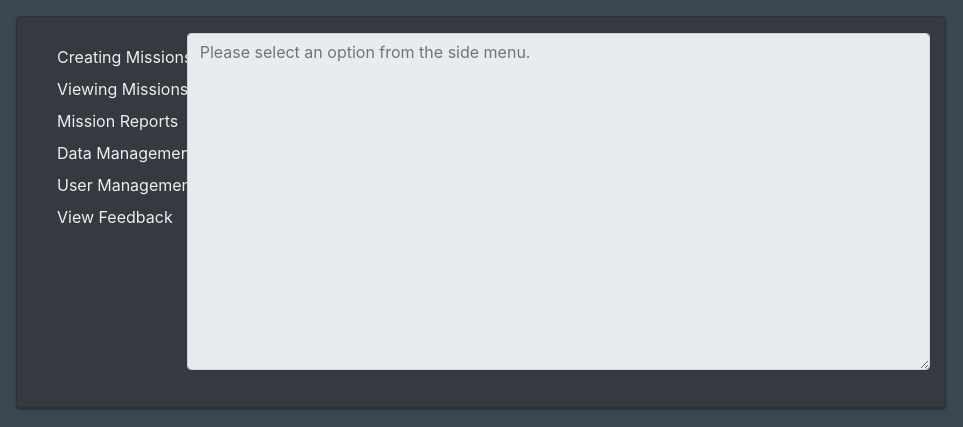
Scenario: About › About
The image size is (963, 427).
Click the button "Creating Missions": (127,57) [33,41,220,73]
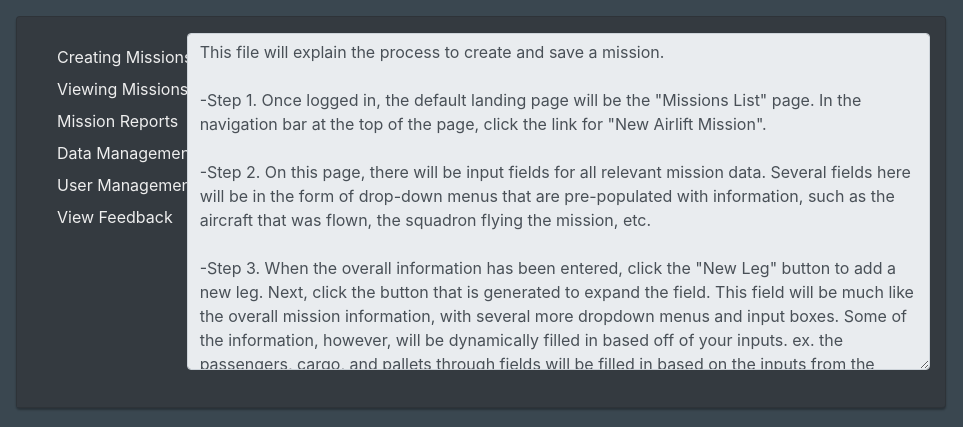
Expected: the text box "This file will explain the process to create and save a mission" is shown
Click the button "Viewing Missions": (127,89) [33,73,220,105]
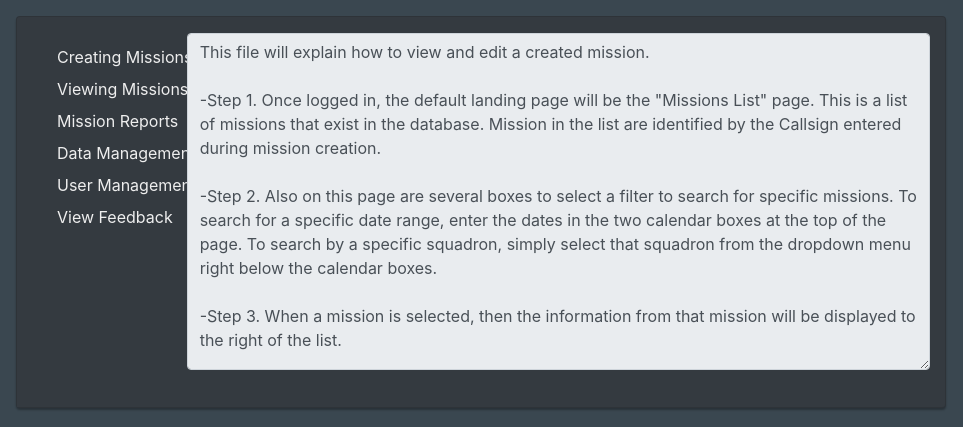
Expected: the text box "This file will explain how to view and edit a created mission" is shown
Click the button "Mission Reports": (127,121) [33,105,220,137]
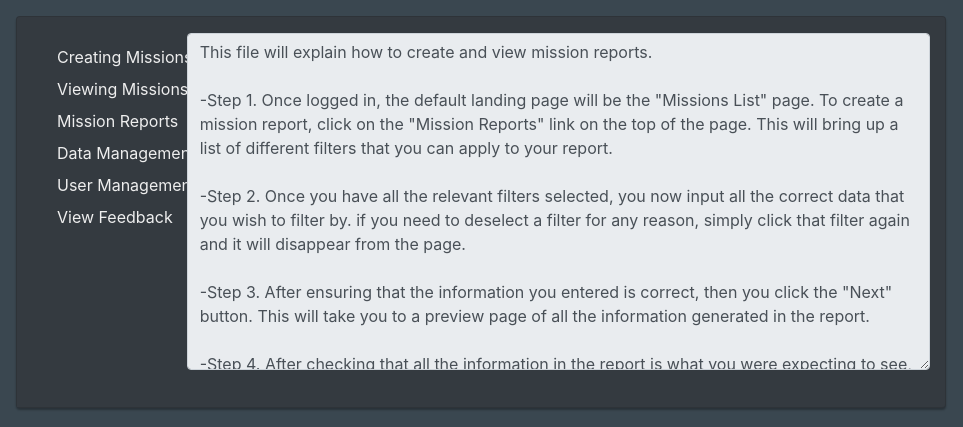
Expected: the text box "This file will explain how to create and view mission reports" is shown
Click the button "Data Management": (127,153) [33,137,220,169]
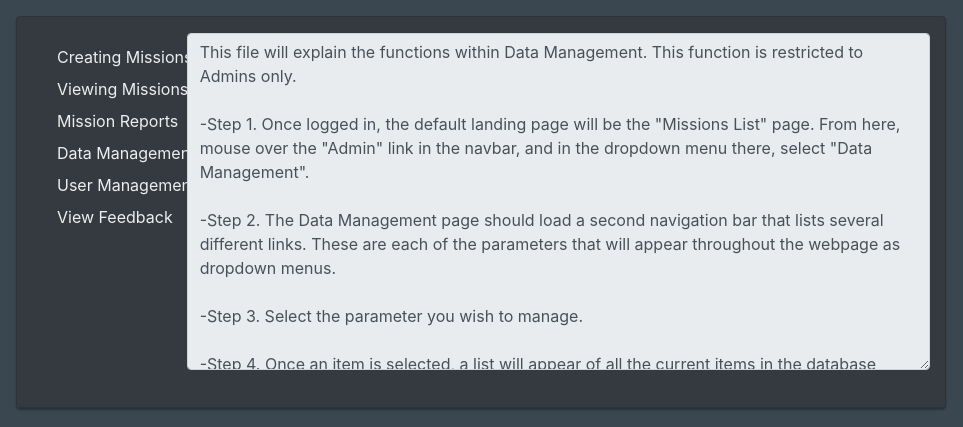
Expected: the text box "This file will explain the functions within Data Management. This function is restricted to Admins only" is shown
Click the button "User Management": (127,185) [33,169,220,201]
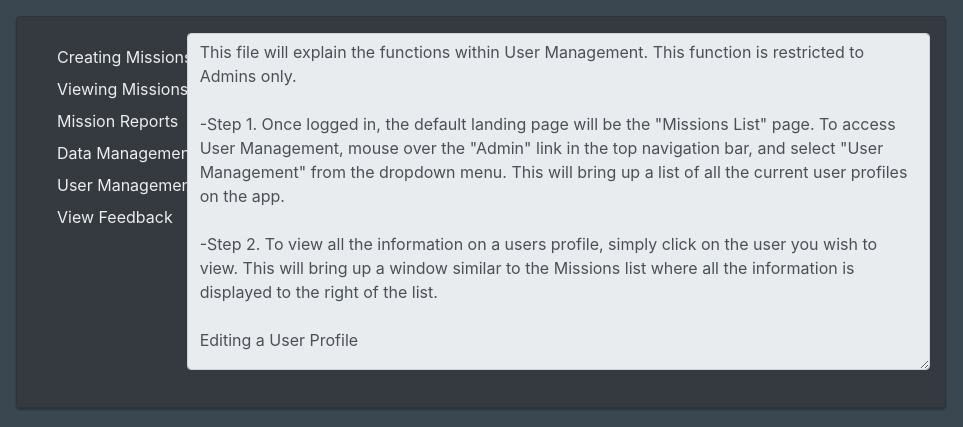
Expected: the text box "This file will explain the functions within User Management. This function is restricted to Admins only" is shown
Click the button "View Feedback": (127,217) [33,201,220,233]
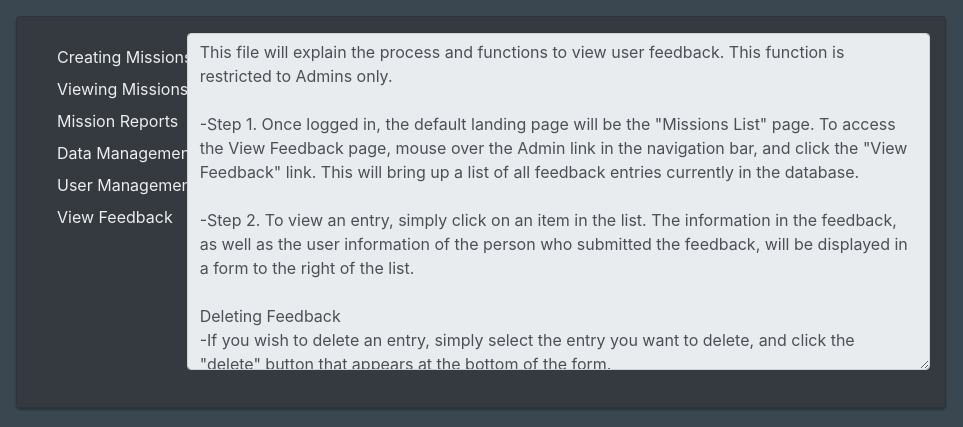
Expected: the text box "This file will explain the process and functions to view user feedback. This function is restricted to Admins only" is shown
